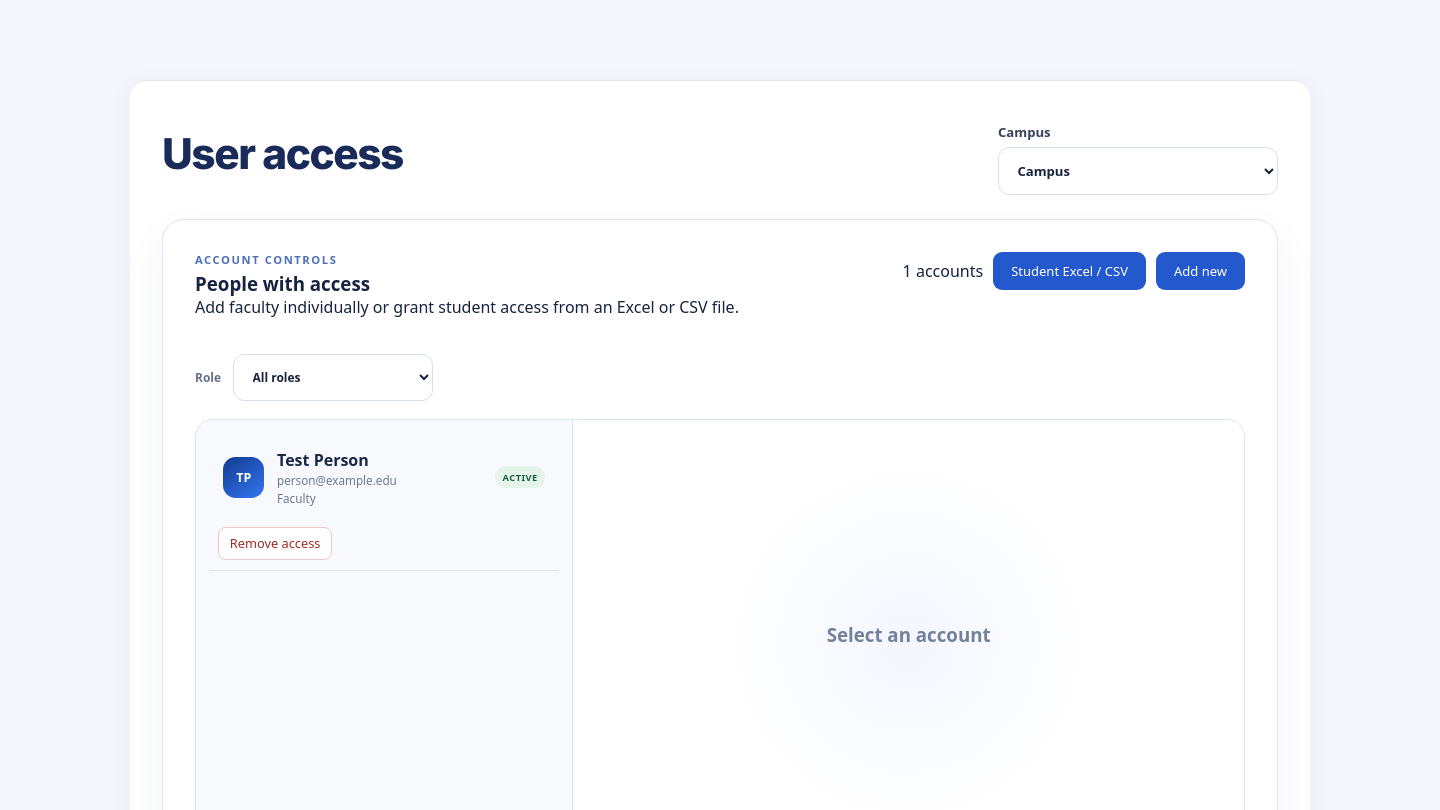
FacultyAccessWorkspace › removes FACULTY access directly from the directory after confirmation
Click the button with aria-label "Remove access for Test Person": x=275, y=543 218,527 -> 332,560
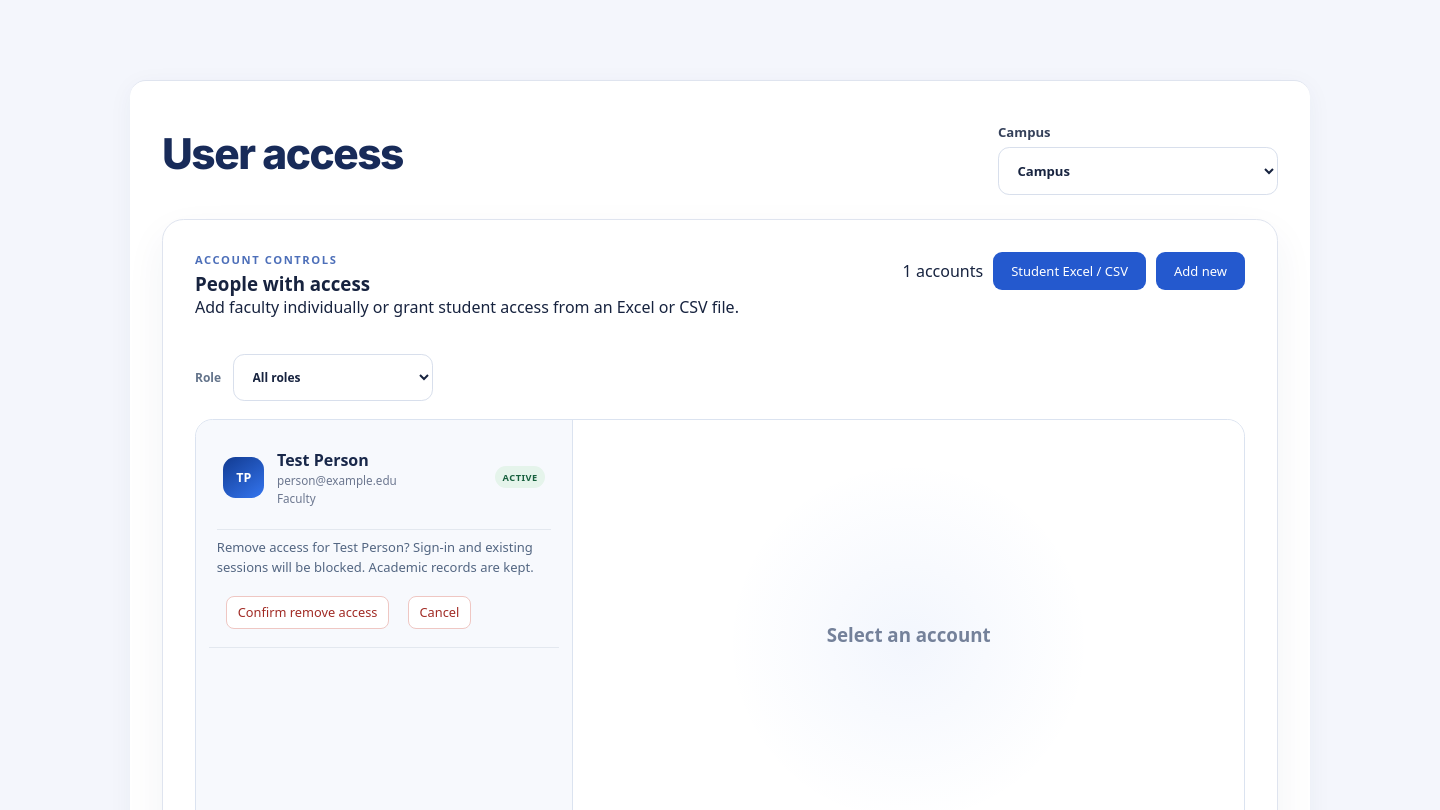
Click the button "Cancel": x=439, y=612 408,596 -> 471,629
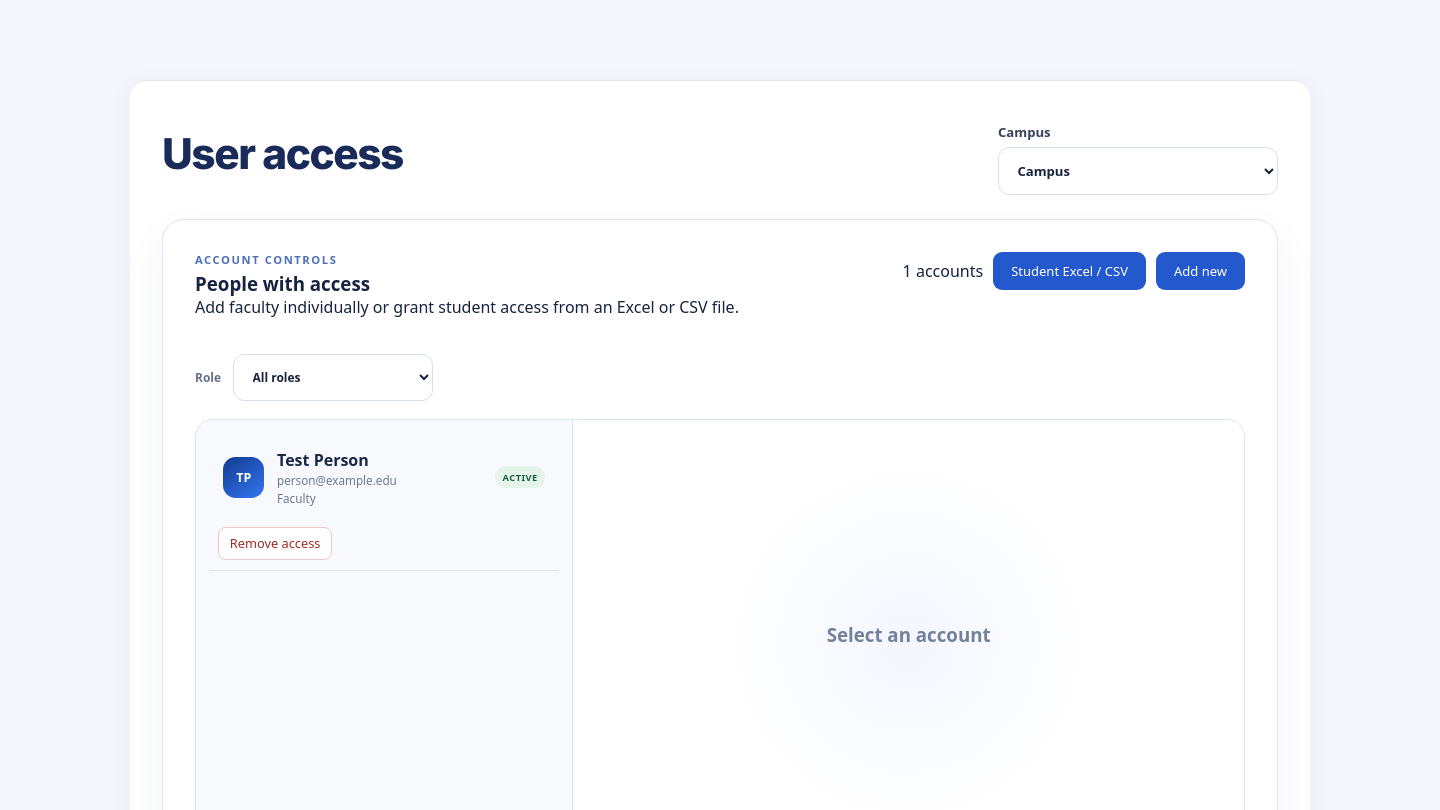
Click the button with aria-label "Remove access for Test Person": x=275, y=543 218,527 -> 332,560
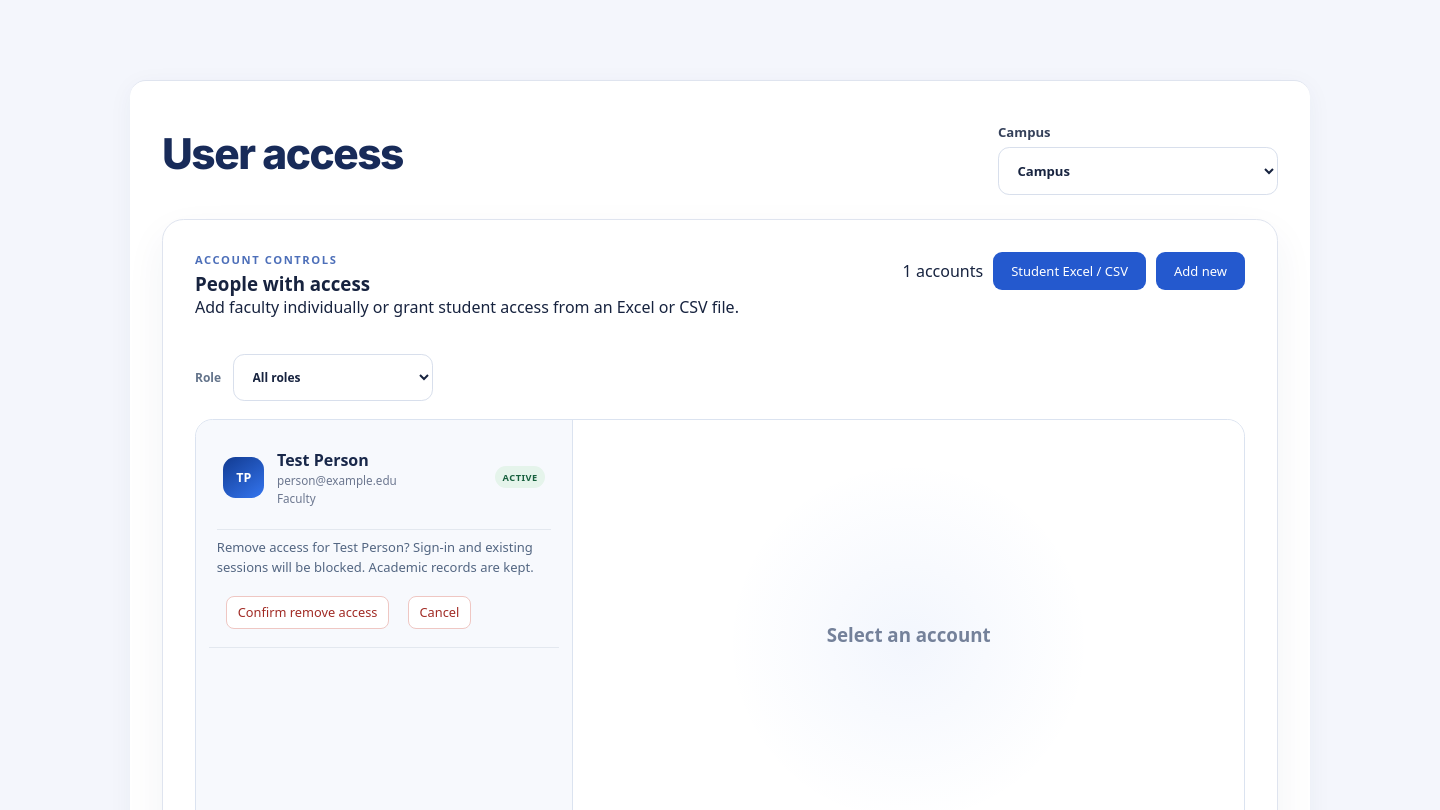
Click the button "Confirm remove access": x=308, y=612 226,596 -> 389,629
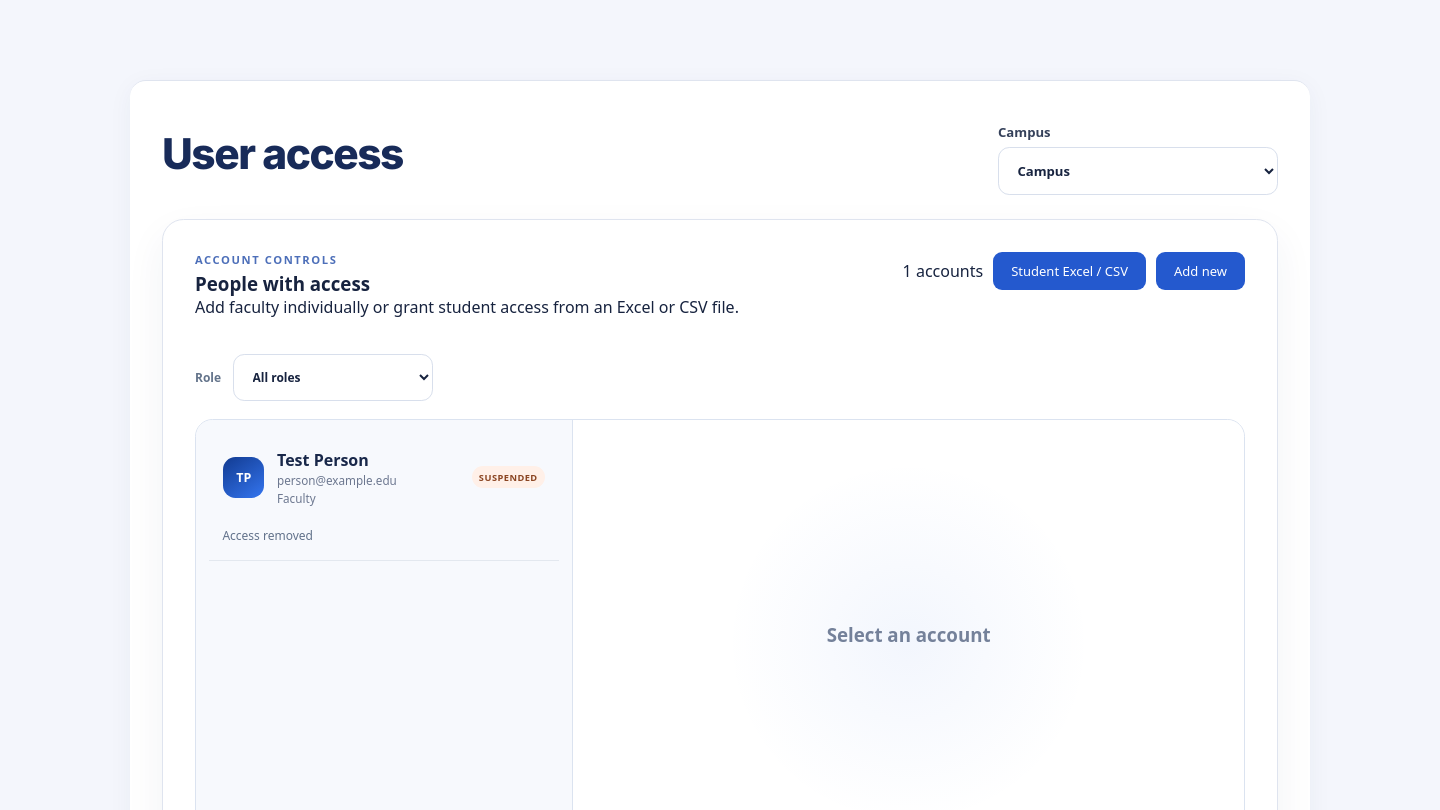
Check: the text "Access removed" is shown, box 222,527 -> 313,544
Check: the text "Remove access for Test Person" is gone
